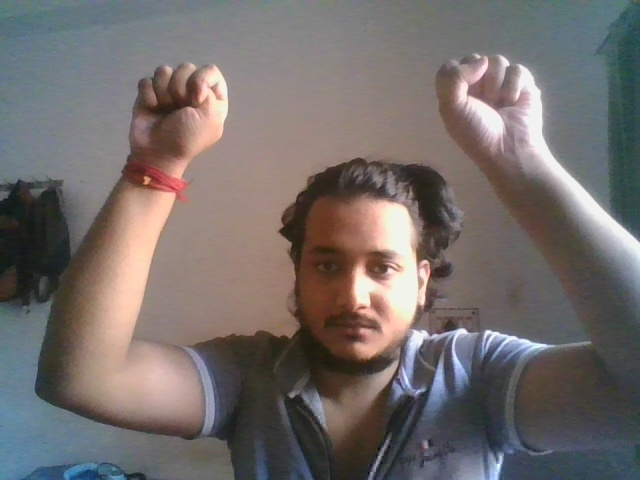Close: (435, 51, 545, 153), (127, 60, 230, 160)
